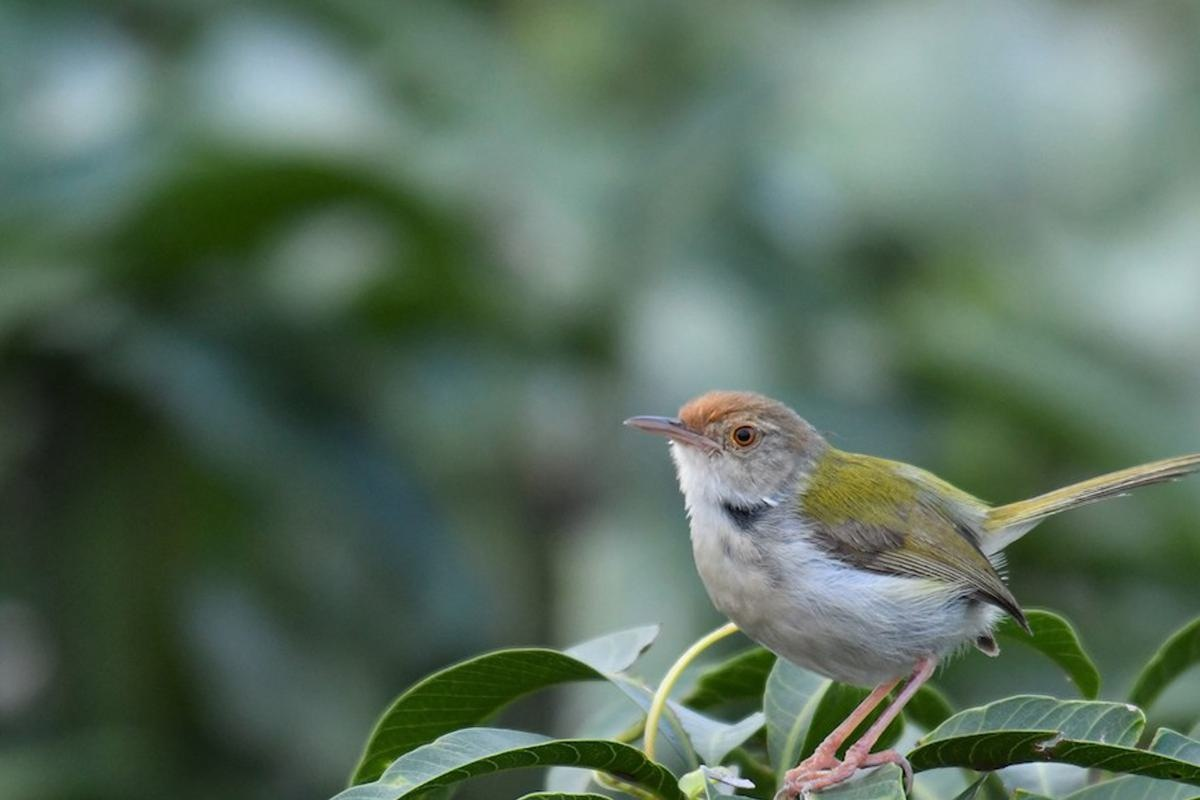tailorbird: (613, 372, 1200, 747)
